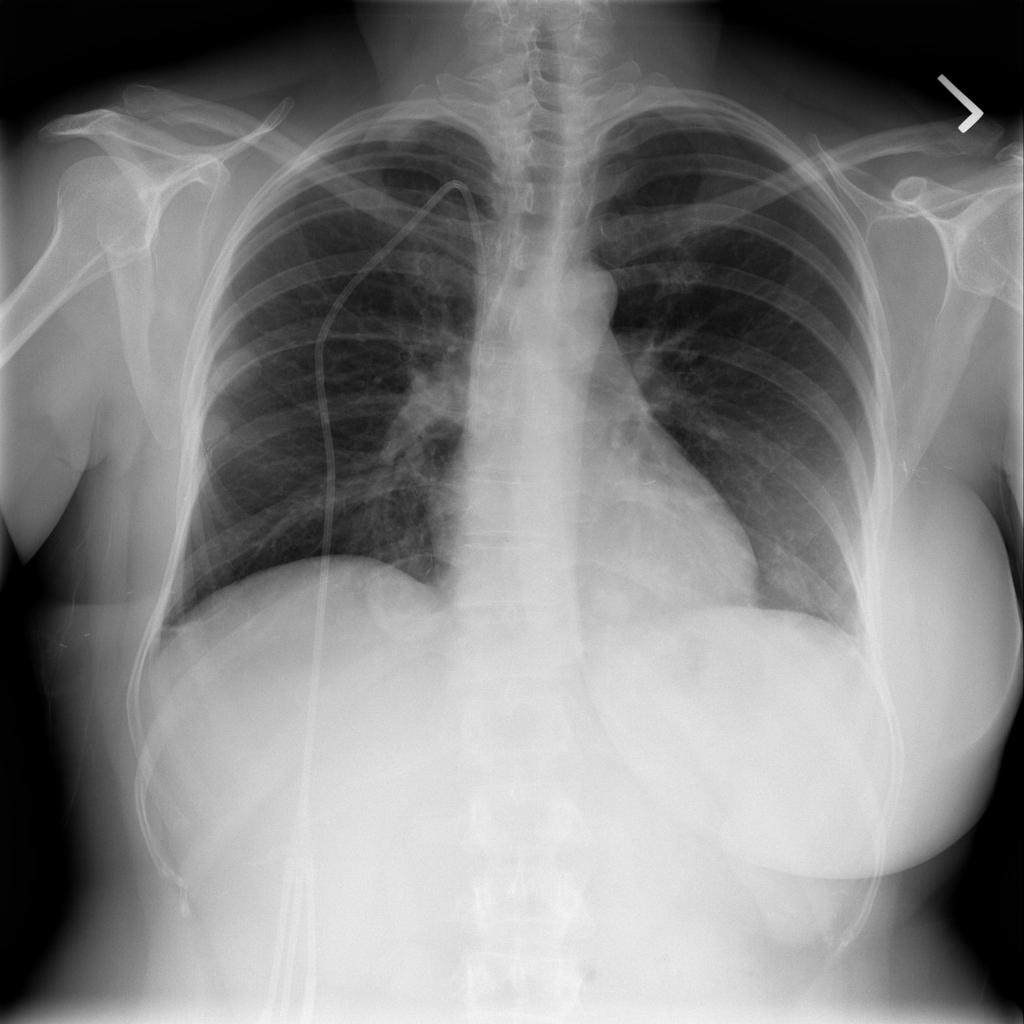nodule: (346, 545, 457, 651), (196, 329, 275, 405), (750, 545, 827, 620), (189, 408, 242, 458)
